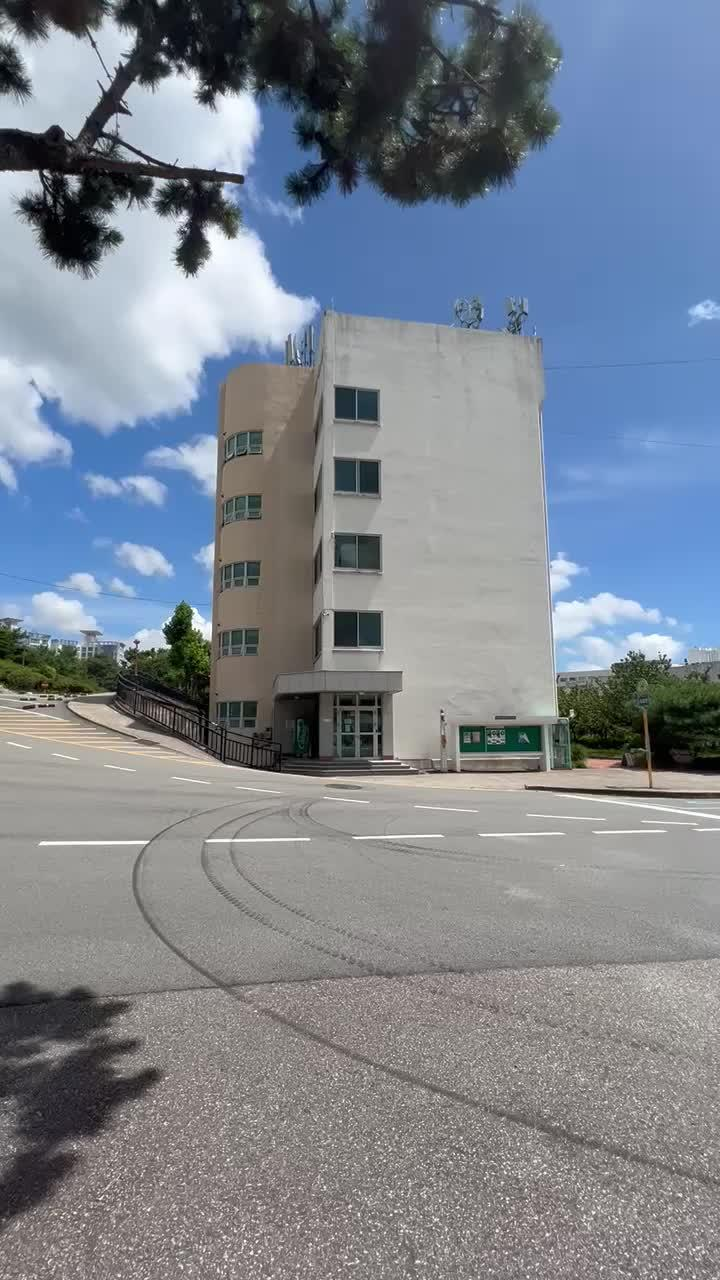building: (204, 292, 570, 786)
